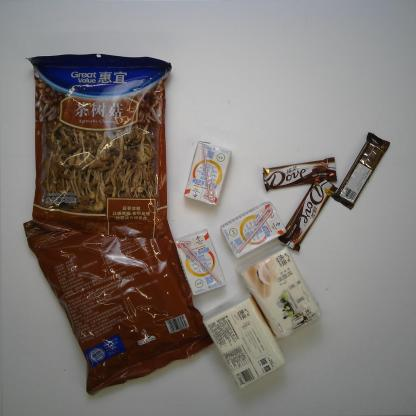Chocolate: (328, 129, 392, 213), (277, 174, 340, 252), (258, 156, 338, 193)
Dried Food: (22, 210, 215, 398), (24, 48, 173, 245)
Milk: (220, 200, 288, 262), (172, 226, 224, 299), (182, 138, 234, 210)
Tissue: (200, 292, 286, 392), (238, 247, 325, 342)
